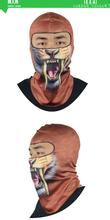face_mask: (33, 26, 69, 79), (28, 136, 56, 184)
